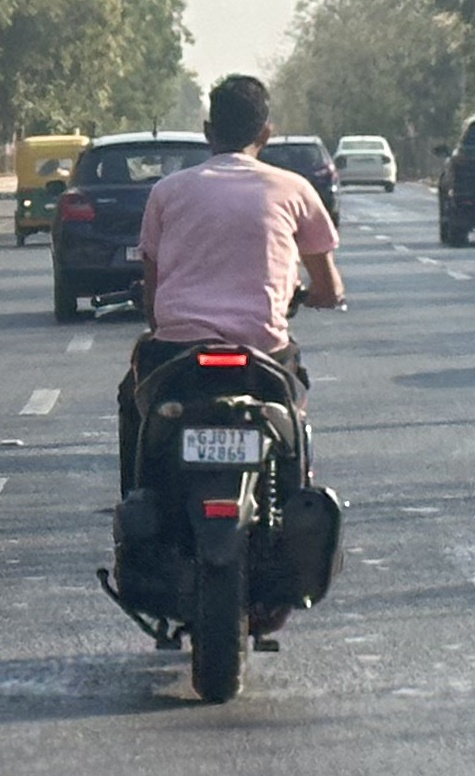BikeWithRider: (88, 65, 357, 712)
NoHelmet: (195, 67, 280, 162)
